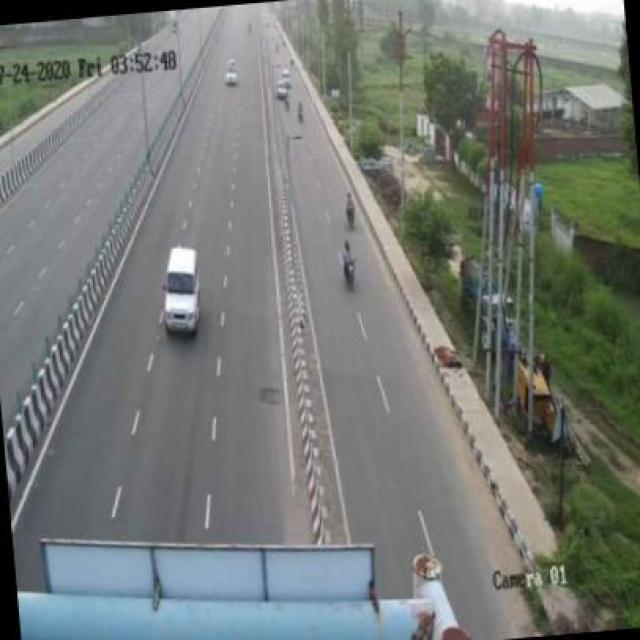car: (147, 242, 208, 344), (218, 49, 245, 91)
